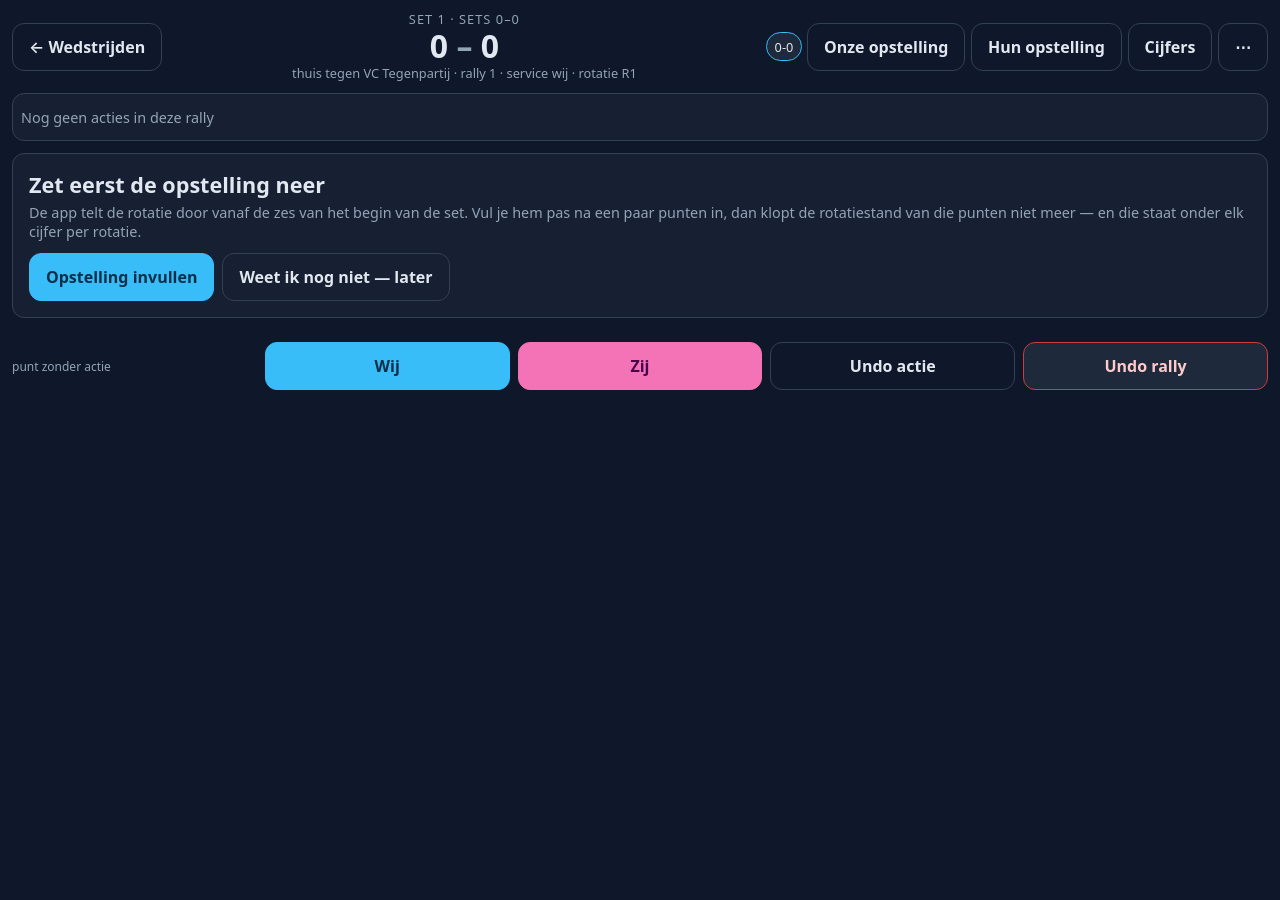
it: ScoringScreen: regels van het spel › laat dezelfde speler niet twee keer achter elkaar de bal spelen
Check: the text "Nog geen acties in deze rally" is shown, box [21,108,214,127]
What coordinates should you click on to do the following:
click the button "Weet ik nog niet — later"
I would click on:
 (336, 277)
Its box is [222,253,450,301].
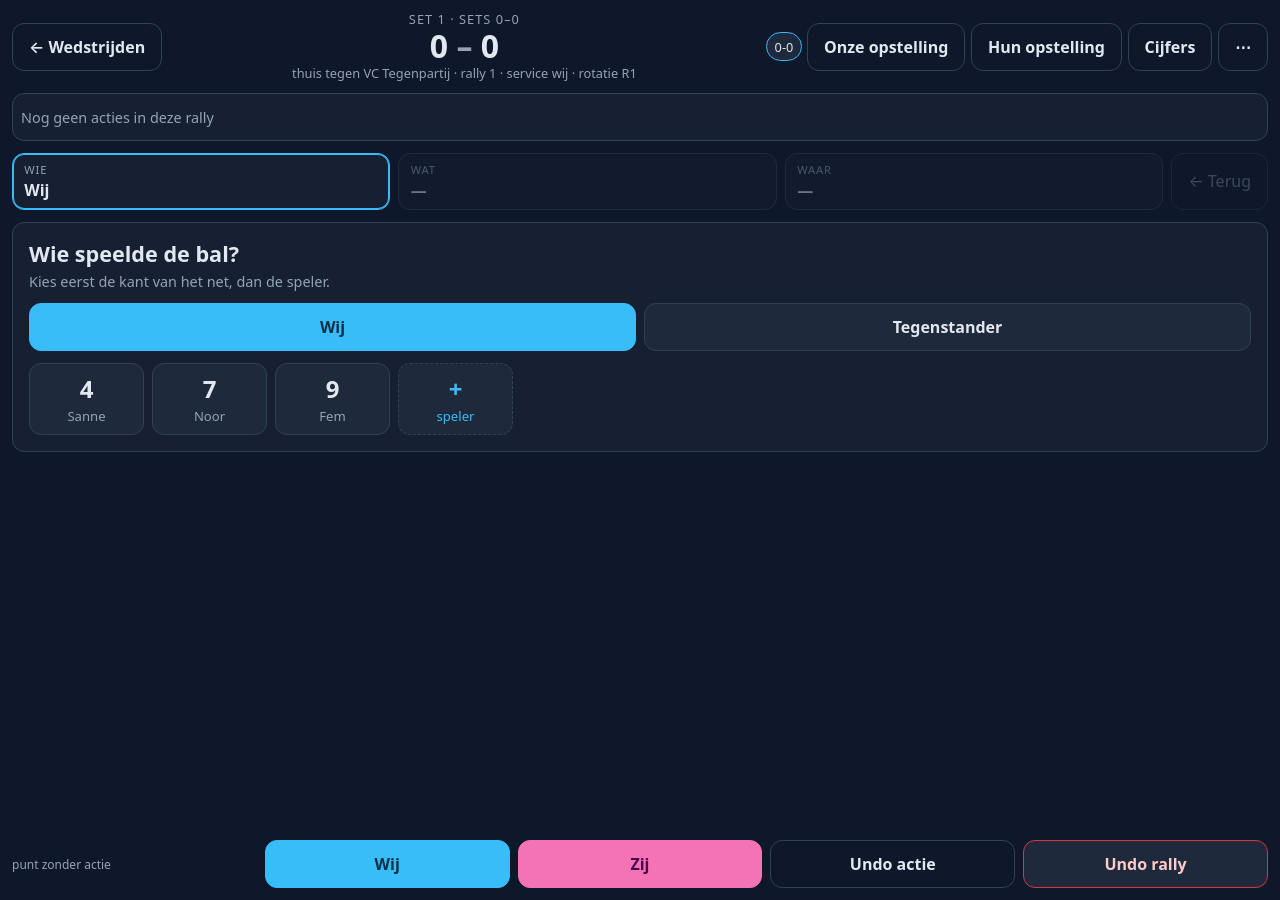
What coordinates should you click on to do the following:
click the button with aria-label "#4 Sanne"
I would click on:
 (86, 399)
Its box is [29,363,144,435].
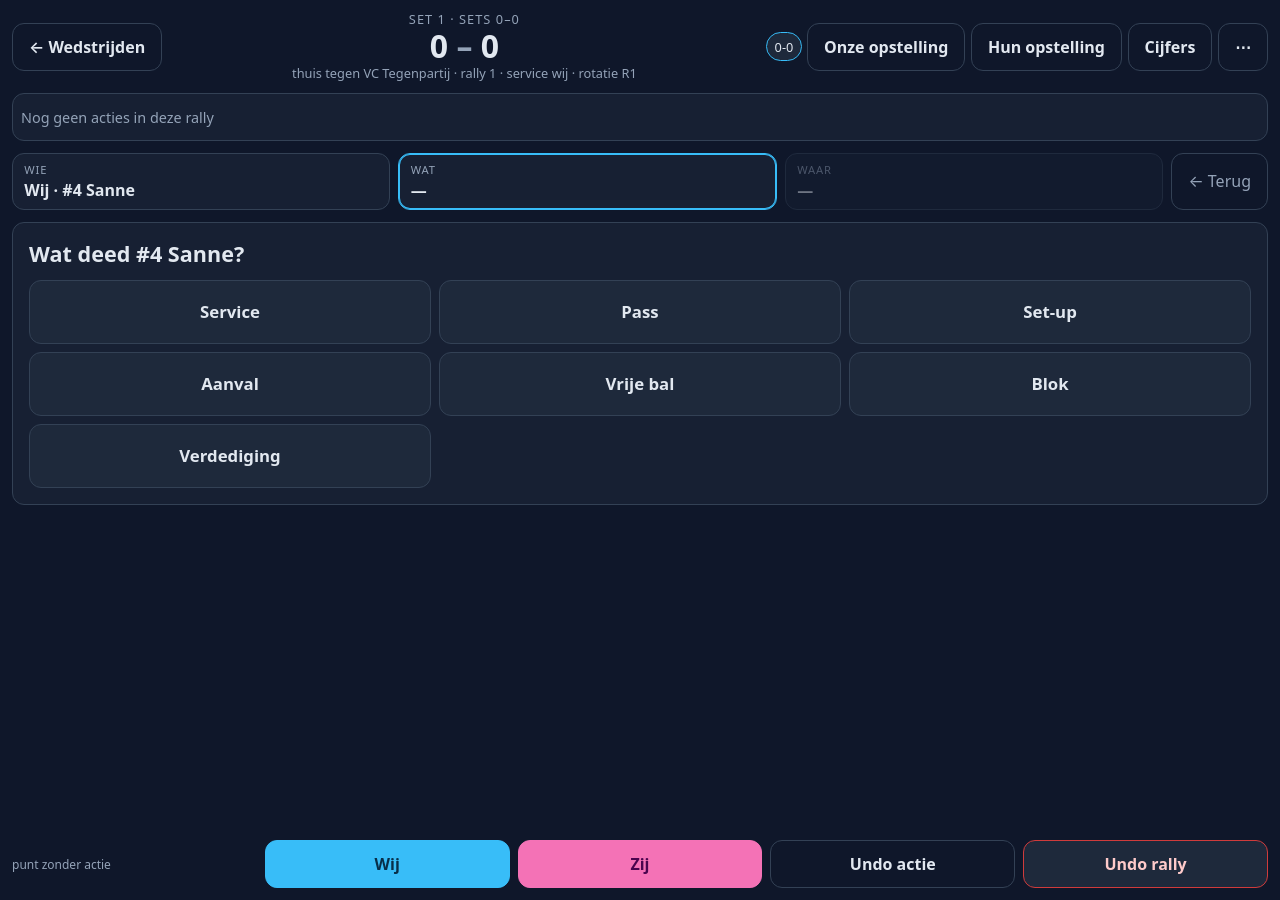
What coordinates should you click on to do the following:
click the button "Pass"
I would click on:
 (640, 312)
Its box is [439,280,841,344].
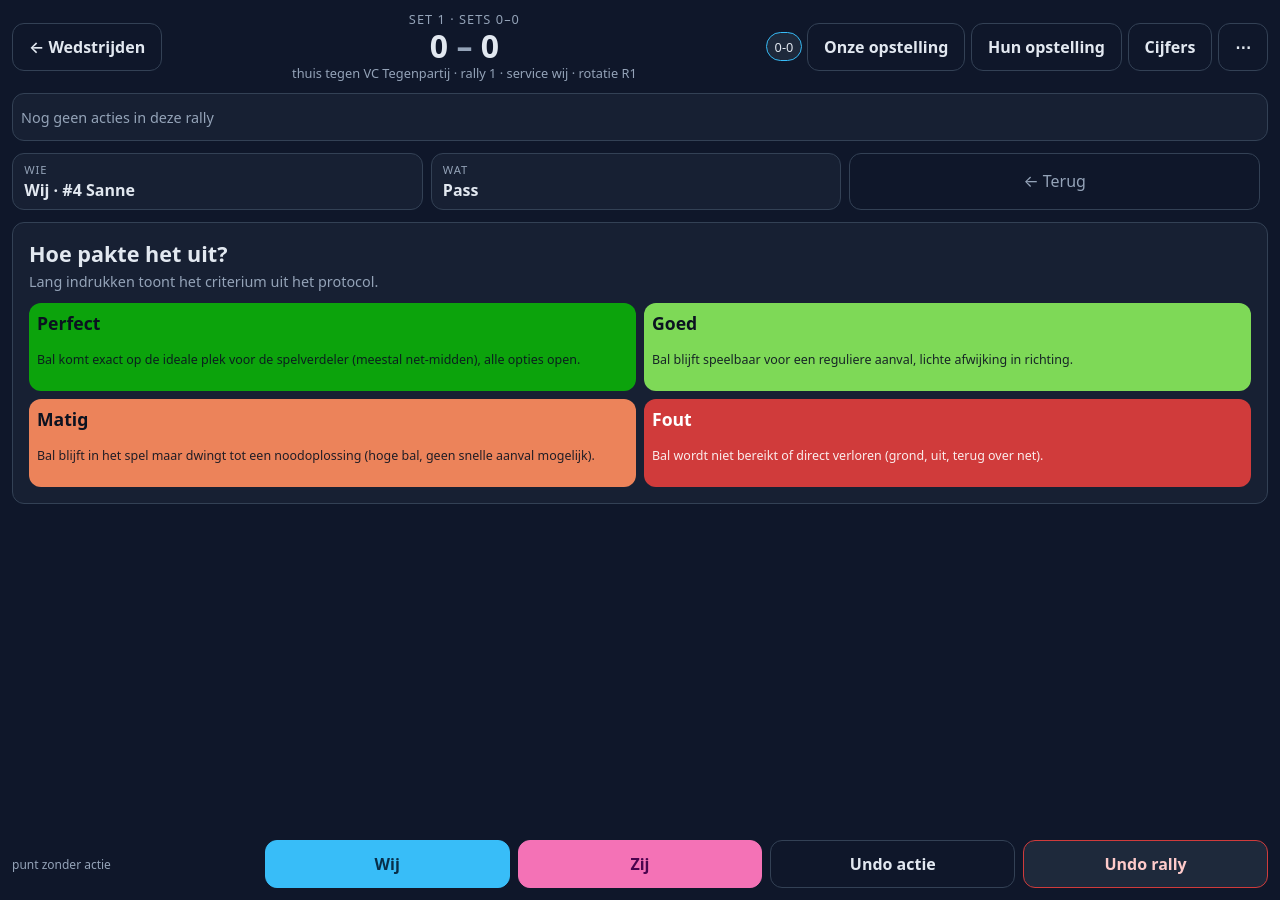
What coordinates should you click on to do the following:
click the button "Goed"
I would click on:
 (675, 323)
Its box is [644,303,1251,391].
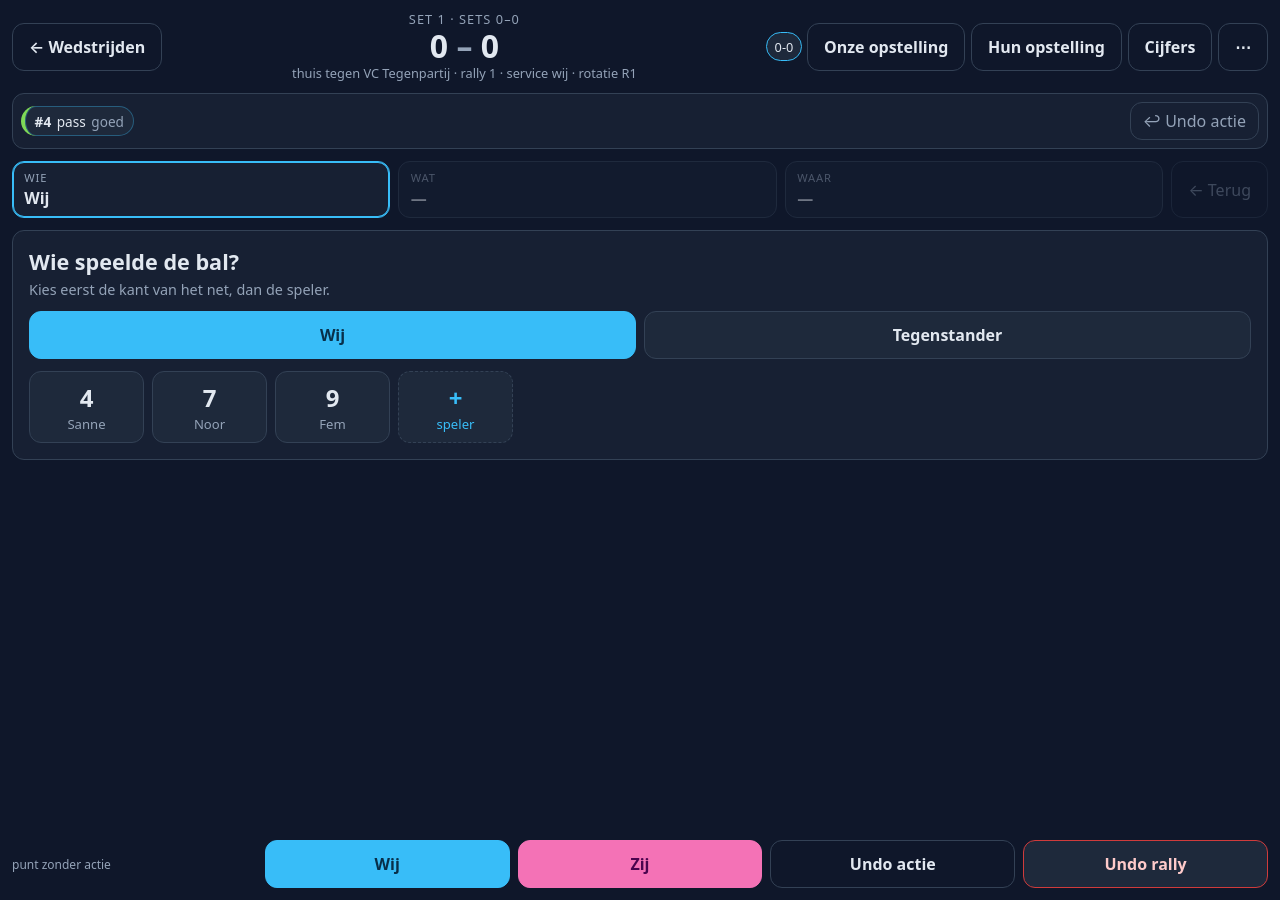
Check: the button with aria-label "#4 Sanne" is disabled, box [29,371,144,443]
Check: the heading "Wie speelde de bal?" is shown, box [29,247,239,276]
Check: the button with aria-label "#7 Noor" is enabled, box [152,371,267,443]
